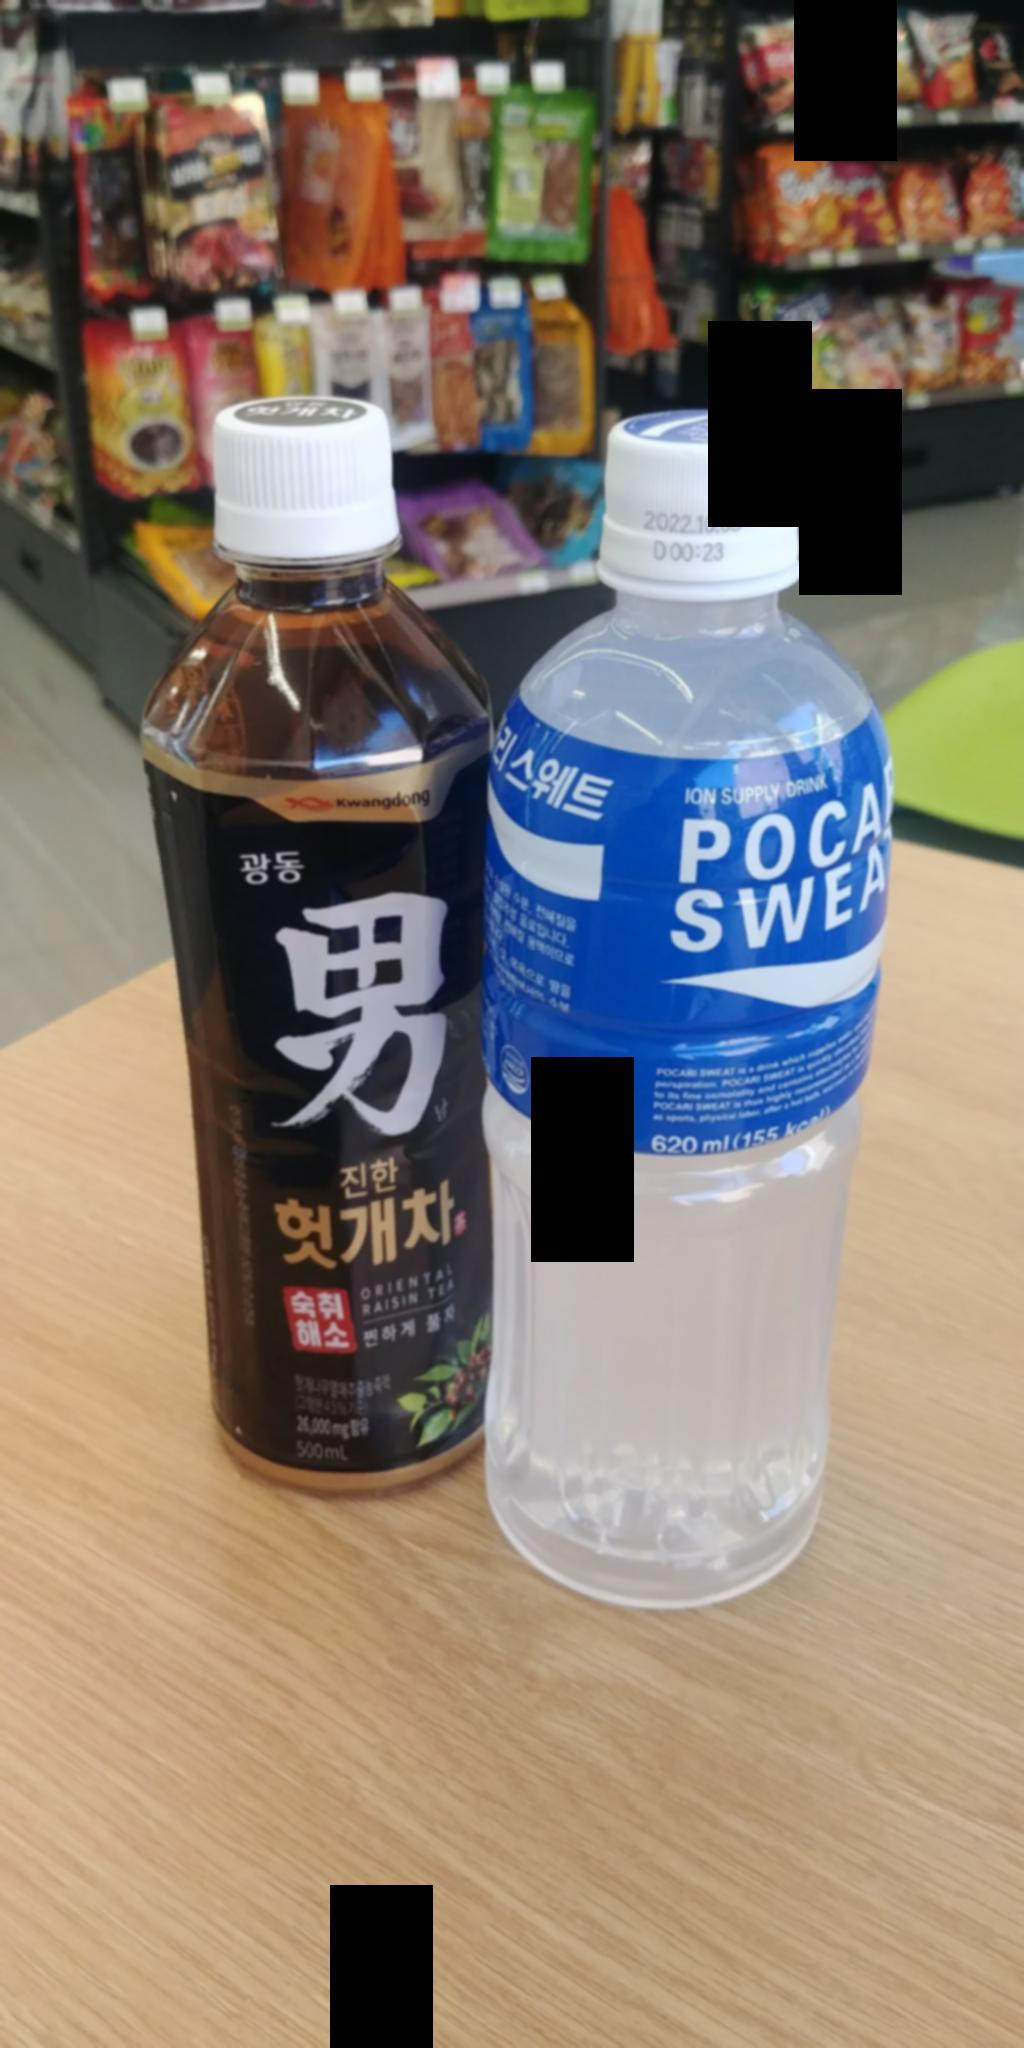heotgaecha: (108, 371, 517, 1512)
pocarisweat: (456, 388, 892, 1591)
